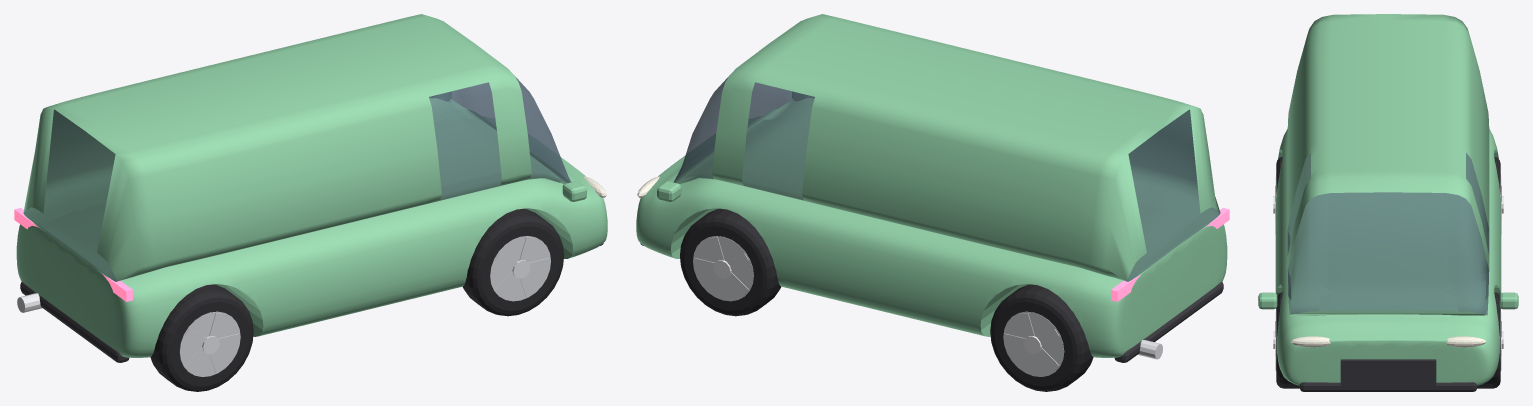
Rendered from cargo_hopper.fbx.
3 views of the same model, side by side, from view 1: azimuth 30°, elevation 25°; view 2: azimuth 150°, elevation 25°; view 3: azimuth 270°, elevation 25° (orthographic). The views are drawn at different scales.
Parts seen in each view (by area): view 1: Body.006, Glass.006, Tire.006, Rim.006, Trim.006, Chrome.006, TailLight.006; view 2: Body.006, Glass.006, Tire.006, Rim.006, Trim.006, Chrome.006, TailLight.006; view 3: Body.006, Glass.006, Trim.006, Tire.006, HeadLight.006, Rim.006.
Part boxes in pixels (x1,y1,x2,y2): Body.006: (16, 14, 607, 357); Glass.006: (23, 76, 571, 281); Tire.006: (150, 208, 563, 391); Rim.006: (179, 236, 550, 376); Trim.006: (20, 243, 603, 362); Chrome.006: (17, 260, 530, 354); TailLight.006: (14, 208, 132, 301); Body.006: (636, 14, 1227, 357); Glass.006: (673, 76, 1220, 281); Tire.006: (680, 208, 1093, 391); Rim.006: (693, 236, 1064, 376); Trim.006: (640, 243, 1223, 362); Chrome.006: (713, 260, 1162, 359); TailLight.006: (1111, 208, 1229, 301); Body.006: (1258, 14, 1518, 385); Glass.006: (1287, 153, 1489, 314); Trim.006: (1299, 359, 1477, 391); Tire.006: (1276, 157, 1500, 388); HeadLight.006: (1290, 336, 1486, 347); Rim.006: (1275, 174, 1501, 371).
Bounding box in the file's own units: 1511 × 662 × 753.
